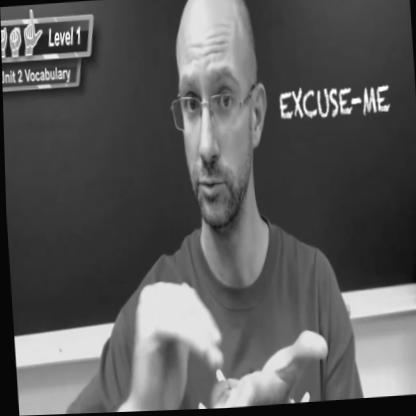ExcuseMe: (111, 258, 330, 413)
